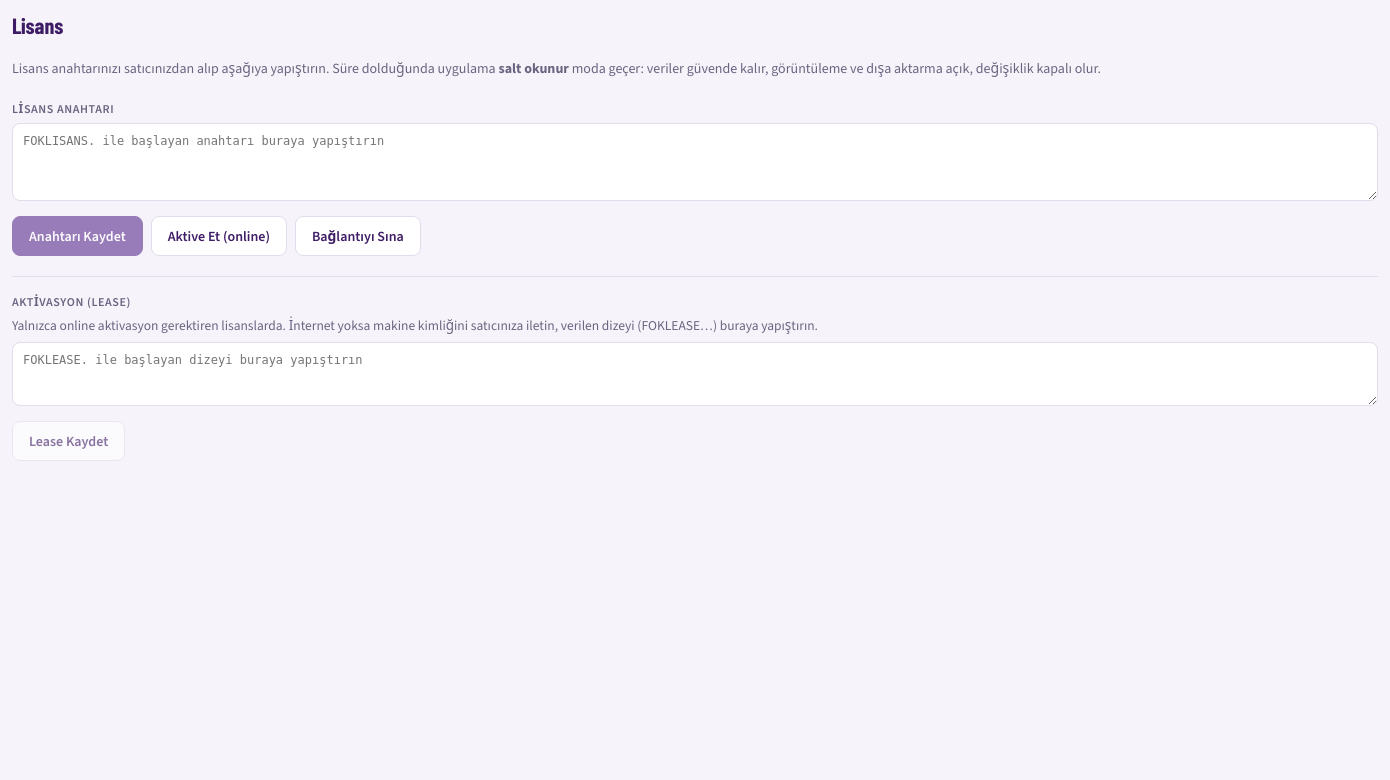
it: Ayarlar > Lisans — anahtar kaydı › hatalı anahtar: hata toast'ı
Type " FOKLISANS.a.b " into the text box named "Lisans anahtarı" at (695, 162), box [12,123,1378,201]
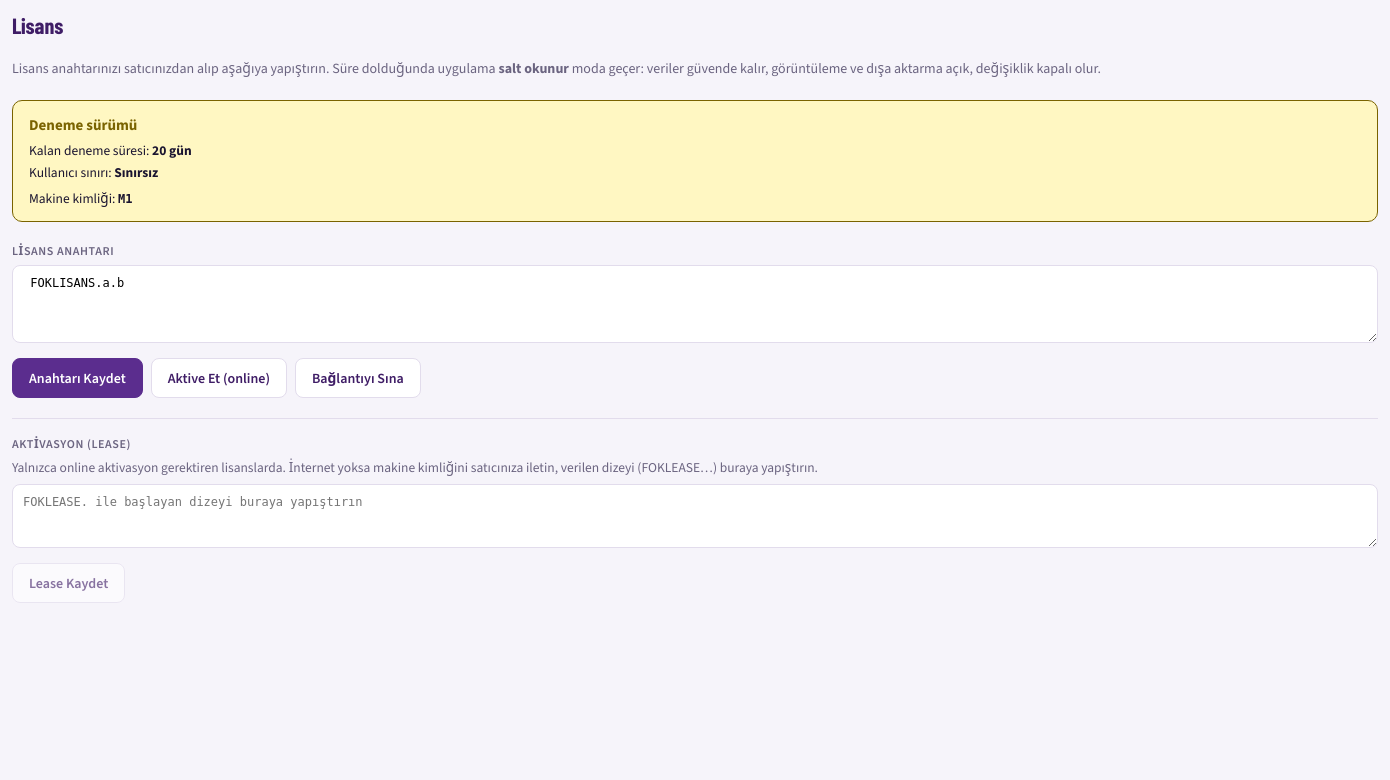
Click the button "Anahtarı Kaydet" at (77, 378), box [12,358,143,398]
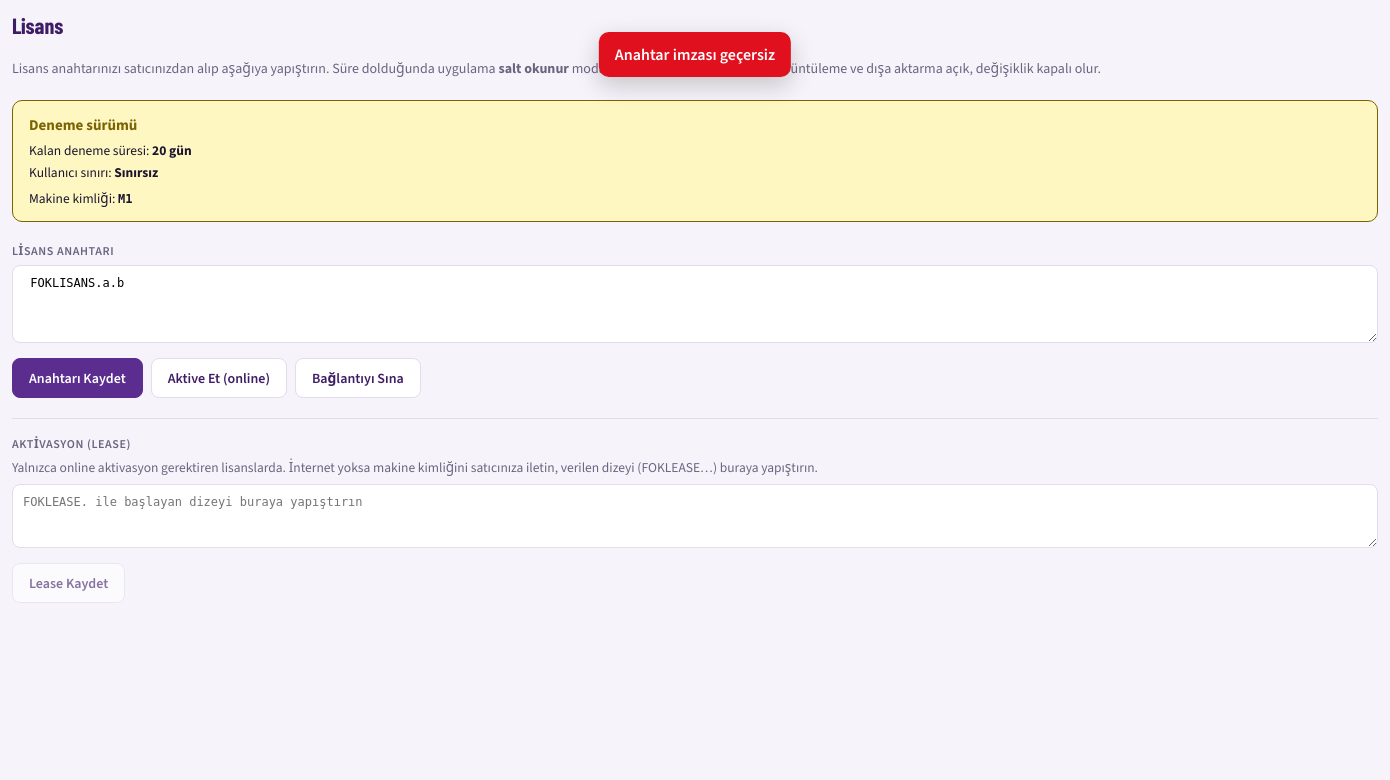
Check: the text "Anahtar imzası geçersiz" is shown, box [599,32,791,77]
